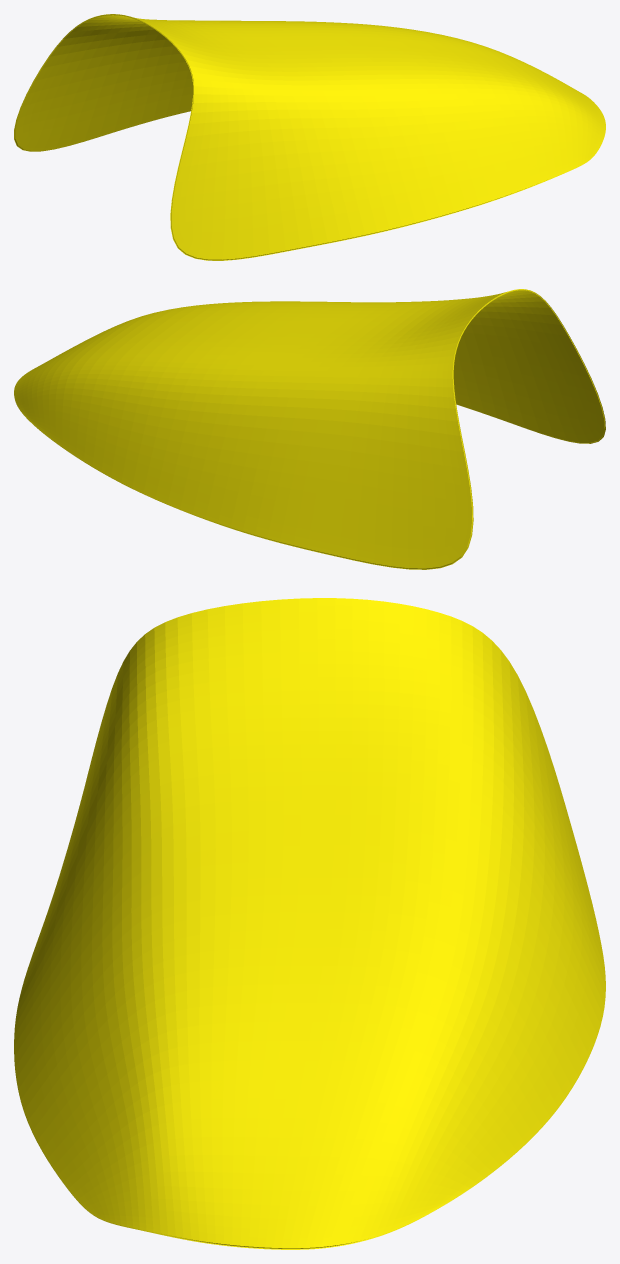
Rendered from frontLeftYellow.obj.
3 renders of one model, top to bottom at view 1: azimuth 30°, elevation 25°; view 2: azimuth 150°, elevation 25°; view 3: azimuth 270°, elevation 25°, orthographic. The views are drawn at different scales.
Parts seen in each view (by area): view 1: Plane; view 2: Plane; view 3: Plane.
Boxes of the visible parts, box(x1,y1,x2,y2) form: Plane: box(14, 14, 605, 260); Plane: box(14, 289, 605, 569); Plane: box(14, 598, 605, 1249).
Size of the model in its own units: 22.11 by 7.75 by 13.46.
1 material, 1 textured.
